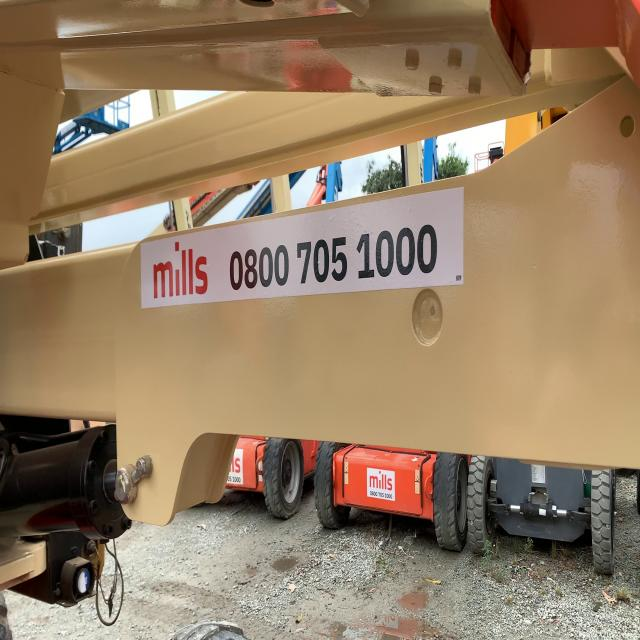Adesivo Longo: (139, 183, 467, 311)
